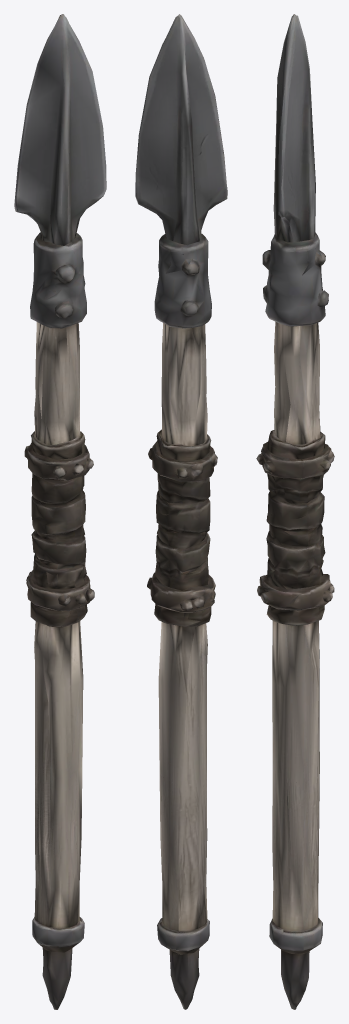
Rendered from spear.glb.
The picture shows the model from 3 angles, left to right: view 1: azimuth 30°, elevation 25°; view 2: azimuth 210°, elevation 25°; view 3: azimuth 270°, elevation 25°; orthographic projection.
Visible parts, largest first — view 1: weapon; view 2: weapon; view 3: weapon.
Part boxes in pixels (x1,y1,x2,y2): weapon: (14, 14, 106, 1009); weapon: (135, 14, 227, 1009); weapon: (256, 14, 334, 1009).
Bounding box in the file's own units: 0.085 × 1 × 0.0711.
Materials: 1 (1 with a texture image).
